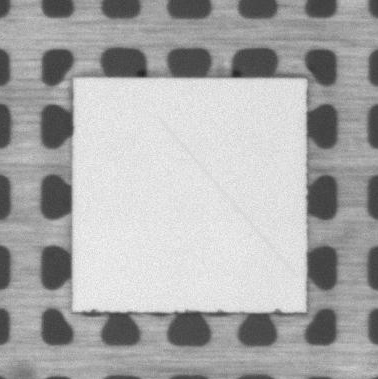DIE_CRACK: (158, 117, 295, 276)
